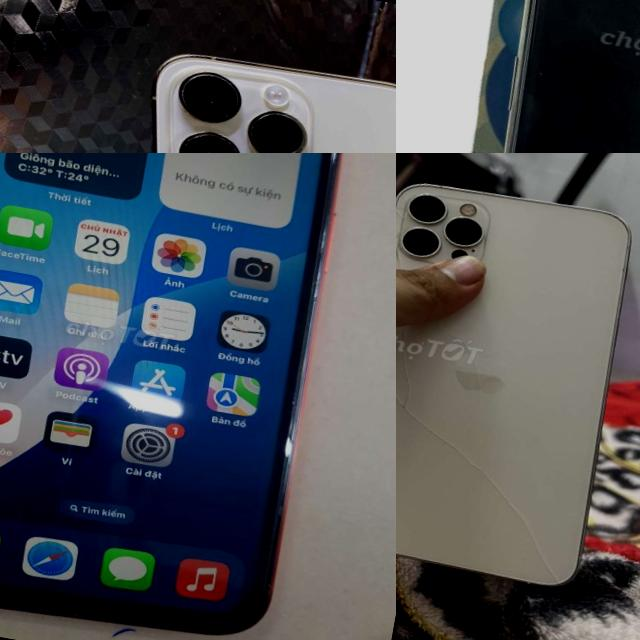gen_11: (396, 167, 640, 594), (503, 0, 640, 153)
gen_14: (77, 30, 396, 153)
gen_x_xs: (0, 153, 392, 640)
